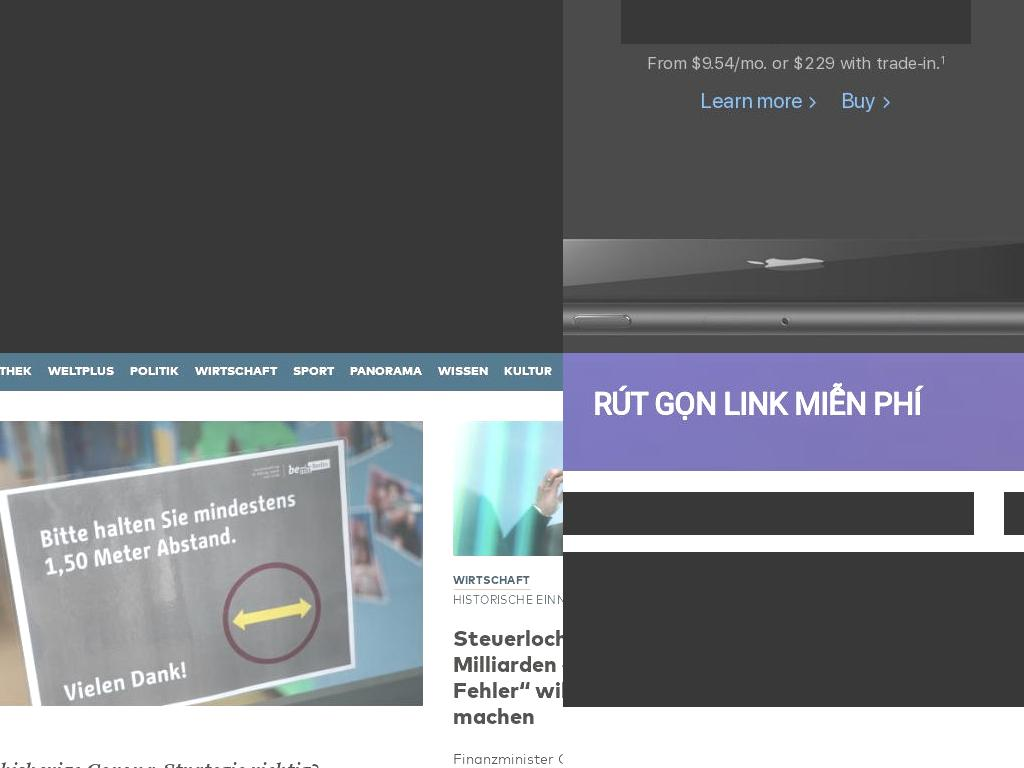button: (452, 609, 563, 729), (0, 741, 423, 768), (195, 353, 277, 391), (350, 353, 422, 391), (48, 353, 114, 391), (438, 353, 488, 391), (130, 353, 179, 391), (504, 353, 552, 391), (293, 353, 334, 391), (0, 353, 32, 391)
field: (563, 492, 974, 535)
heading: (0, 0, 563, 59), (621, 0, 971, 44), (563, 388, 1024, 421), (452, 624, 563, 729), (0, 756, 423, 768), (452, 589, 563, 610), (452, 571, 531, 590)
image: (0, 421, 423, 707), (563, 552, 1024, 707), (452, 421, 563, 557)
link: (700, 87, 818, 113), (841, 87, 891, 113), (79, 286, 160, 301), (940, 53, 946, 66)
text: (0, 0, 563, 353), (563, 0, 1024, 353), (0, 247, 525, 301), (0, 202, 543, 221), (834, 52, 940, 73), (691, 50, 768, 76), (793, 50, 835, 76), (647, 52, 692, 73), (767, 52, 793, 73)
